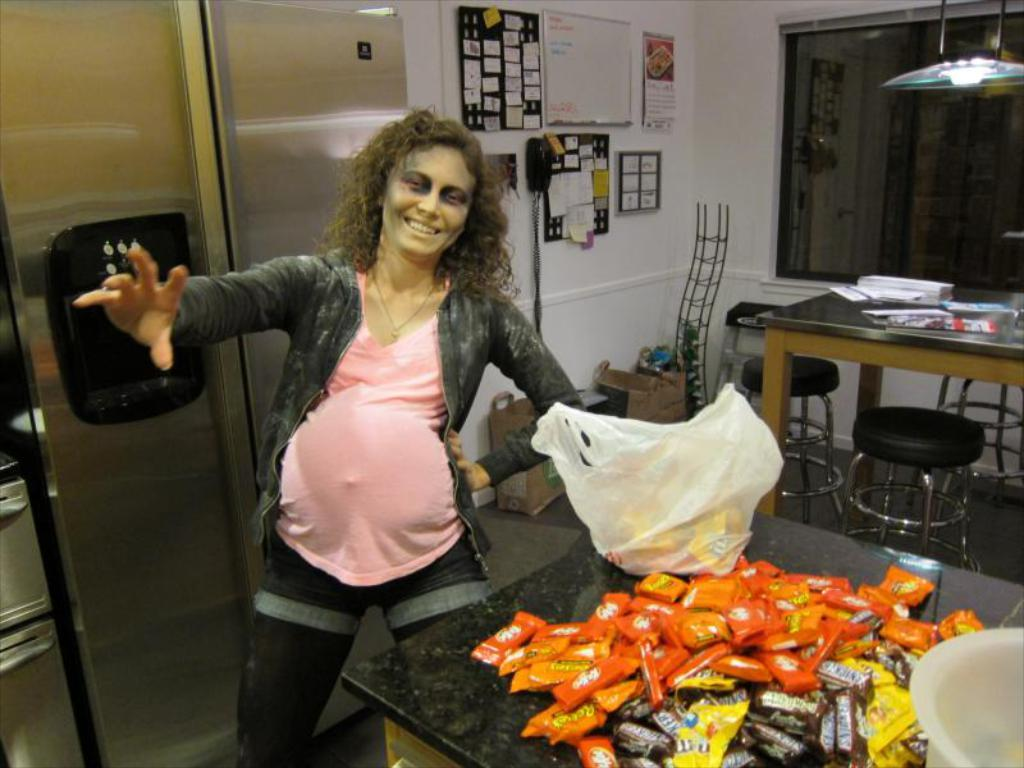Luggage-and-bags: (529, 380, 785, 577)
